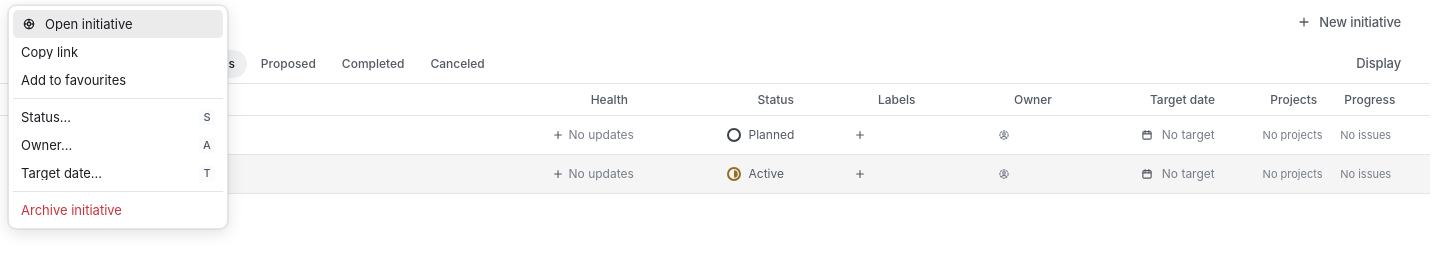
Test: an initiative row’s owner › reaches the same picker from the row menu
This screenshot has width=1440, height=253.
Click the menu item "Owner… A" at (47, 144), box left=21, top=136, right=215, bottom=153
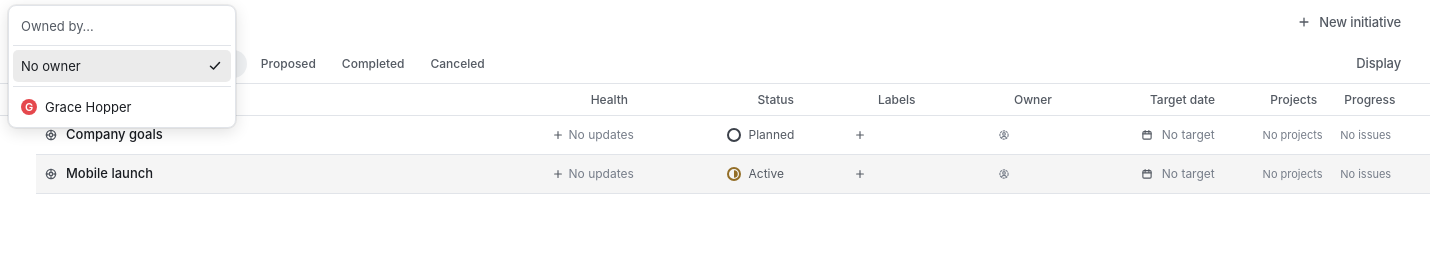
Result: the menu "owner" is shown at left=13, top=50, right=231, bottom=123
